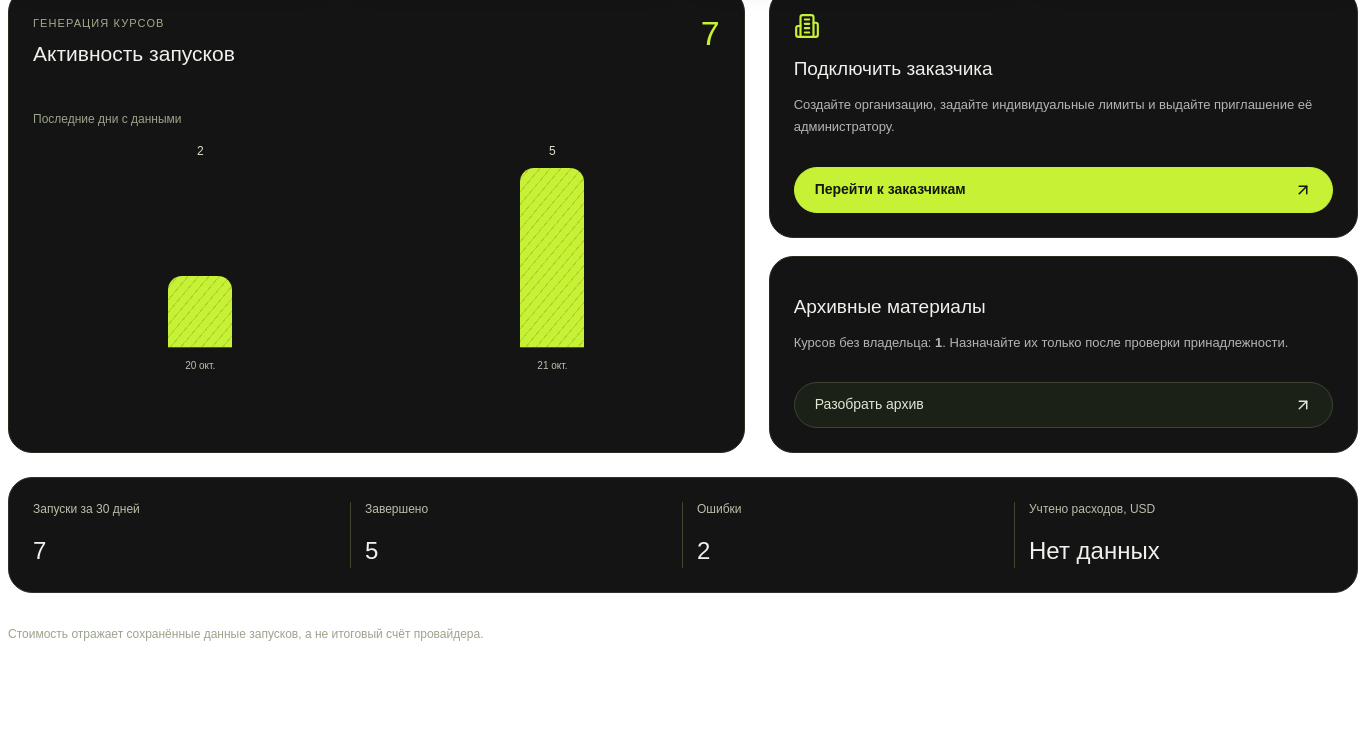
renders actual overview counts and chart values, and opens the unassigned archive from its action
(page scrolled)
expect the number of list items is 2: met, box top-left (168, 144), bottom-right (232, 371); top-left (520, 144), bottom-right (584, 371)
expect the text "2" below "Последние дни с данными" is shown: met, box top-left (197, 144), bottom-right (204, 158)
Click the button "Разобрать архив". click: (869, 404)
box: top-left (794, 382), bottom-right (1333, 428)
(page scrolled)
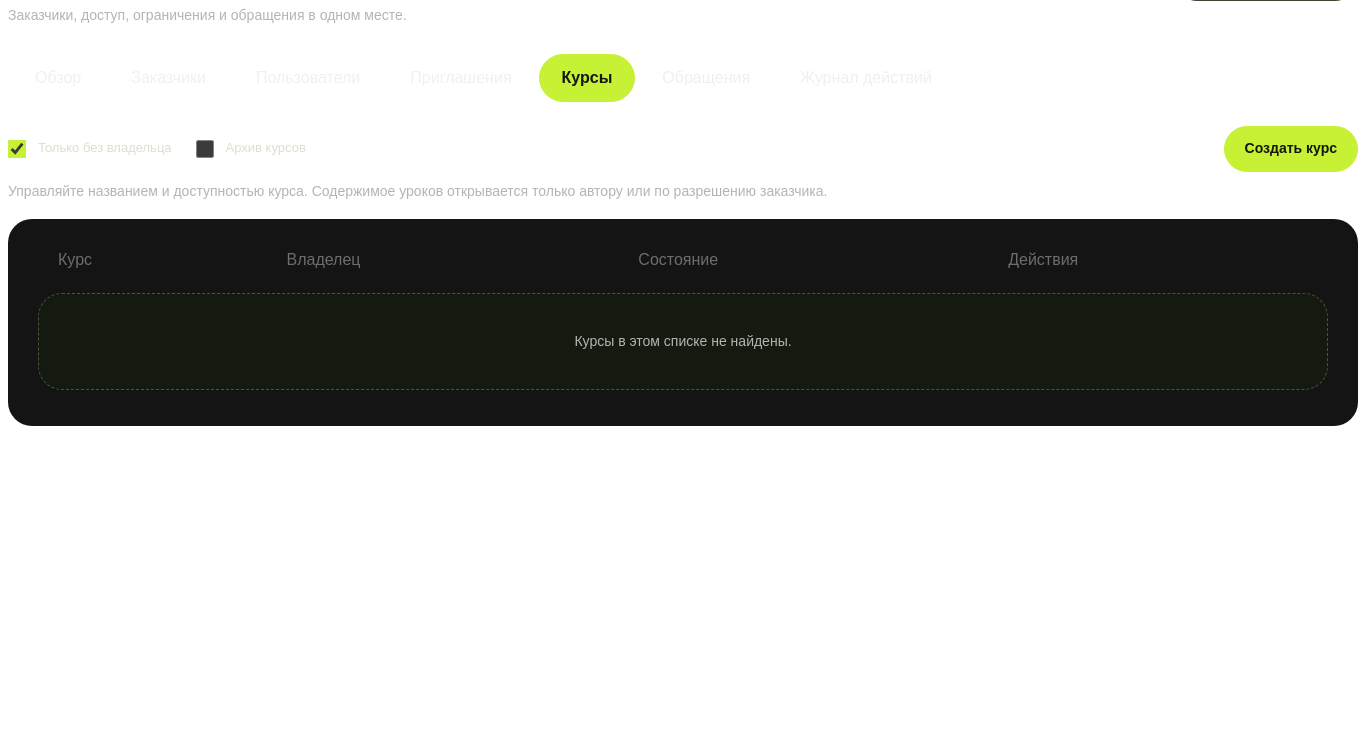
expect the checkbox labelled "Только без владельца" is checked: met, box top-left (8, 140), bottom-right (26, 158)
